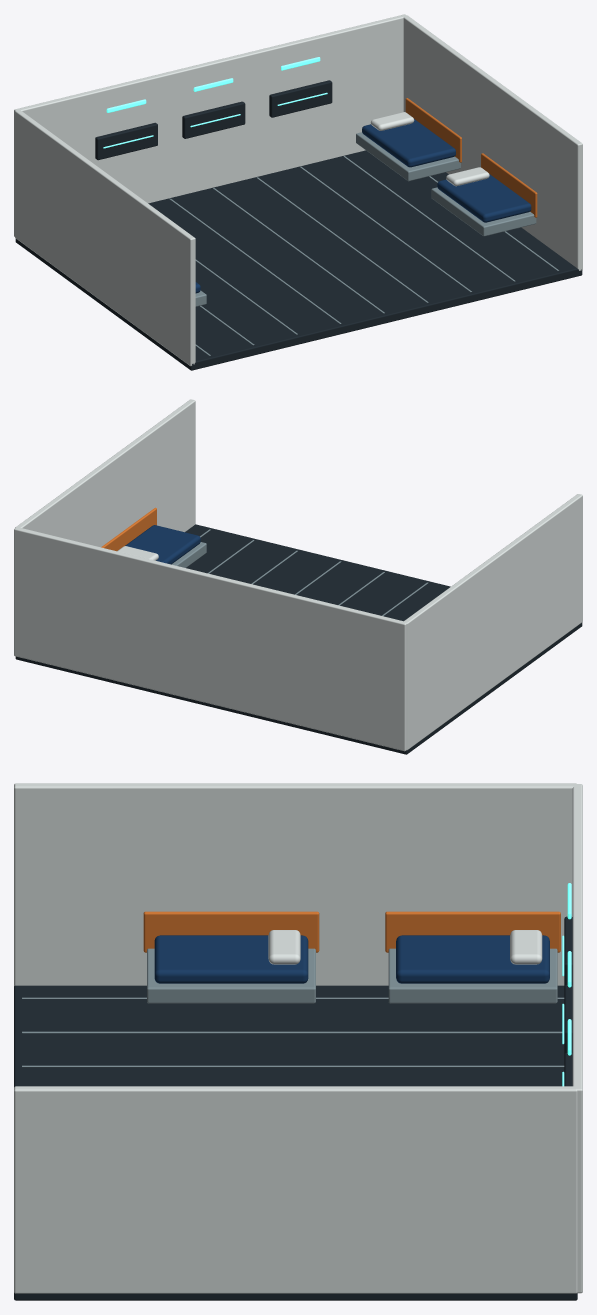
The model's file is habitat-interior.glb.
The picture shows the model from 3 angles, top to bottom: view 1: azimuth 30°, elevation 25°; view 2: azimuth 150°, elevation 25°; view 3: azimuth 270°, elevation 25°; orthographic projection. The views are drawn at different scales.
Parts seen in each view (by area): view 1: white, dark, metal, blue, orange, light; view 2: white, dark, blue, metal, orange; view 3: white, dark, blue, metal, orange, light.
Boxes of the visible parts, left/top/right/bottom form: white: left=14, top=14, right=582, bottom=366; dark: left=15, top=80, right=582, bottom=370; metal: left=169, top=132, right=558, bottom=355; blue: left=195, top=119, right=531, bottom=293; orange: left=405, top=98, right=537, bottom=217; light: left=103, top=57, right=327, bottom=148; white: left=14, top=399, right=582, bottom=751; dark: left=15, top=524, right=582, bottom=754; blue: left=125, top=525, right=200, bottom=564; metal: left=171, top=529, right=428, bottom=615; orange: left=101, top=507, right=156, bottom=551; white: left=14, top=783, right=582, bottom=1293; dark: left=14, top=916, right=577, bottom=1300; blue: left=154, top=935, right=549, bottom=983; metal: left=22, top=948, right=564, bottom=1067; orange: left=143, top=911, right=560, bottom=952; light: left=562, top=883, right=571, bottom=1086.
Size of the model in its own units: 9.03 by 2.9 by 7.07.
